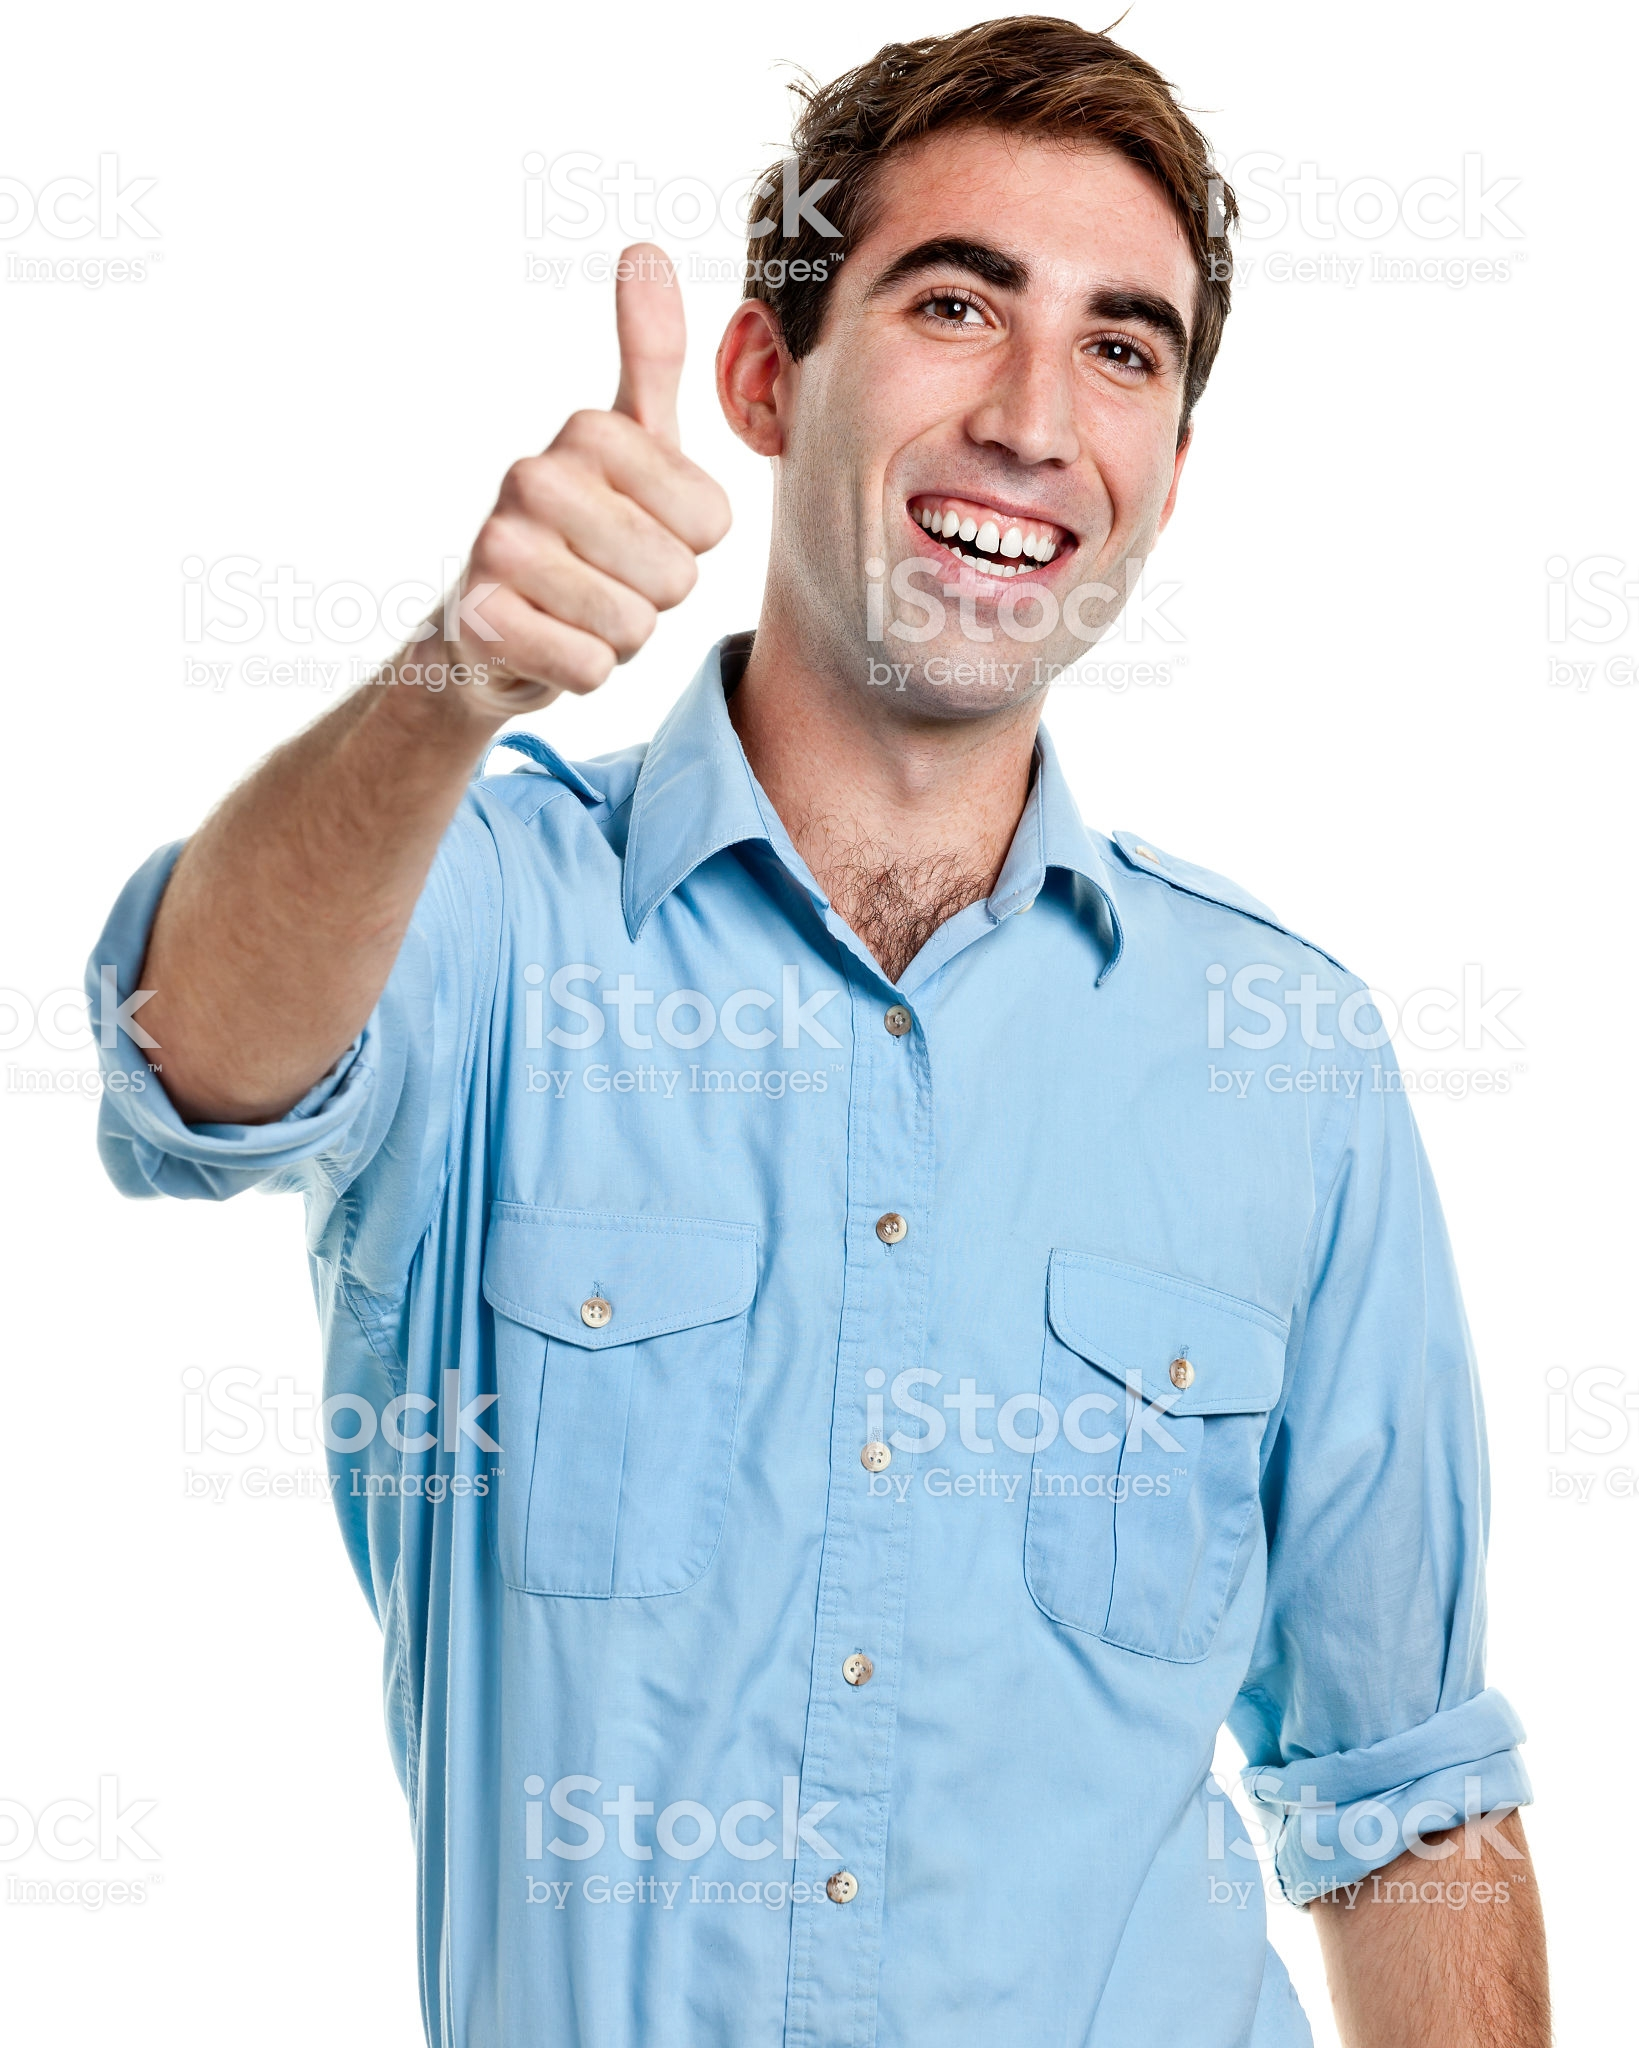thumbsup: (457, 241, 739, 704)
